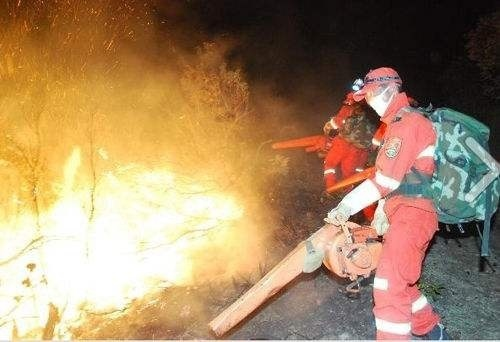fire: (0, 140, 245, 334)
